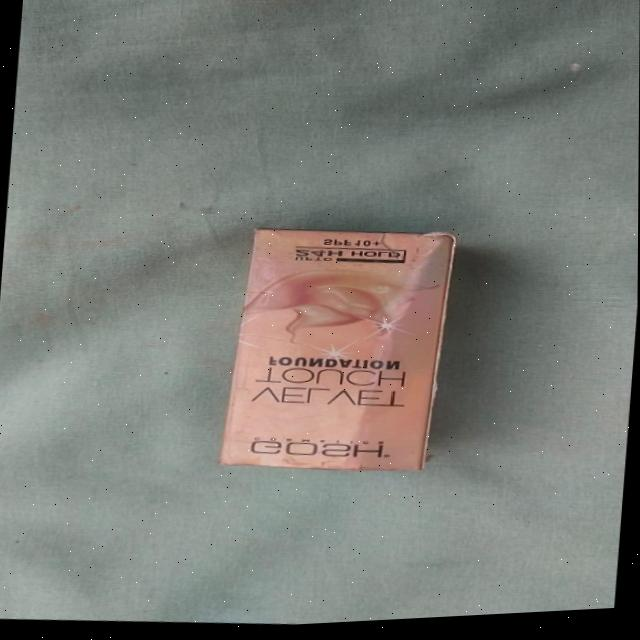foundation: (217, 220, 450, 485)
